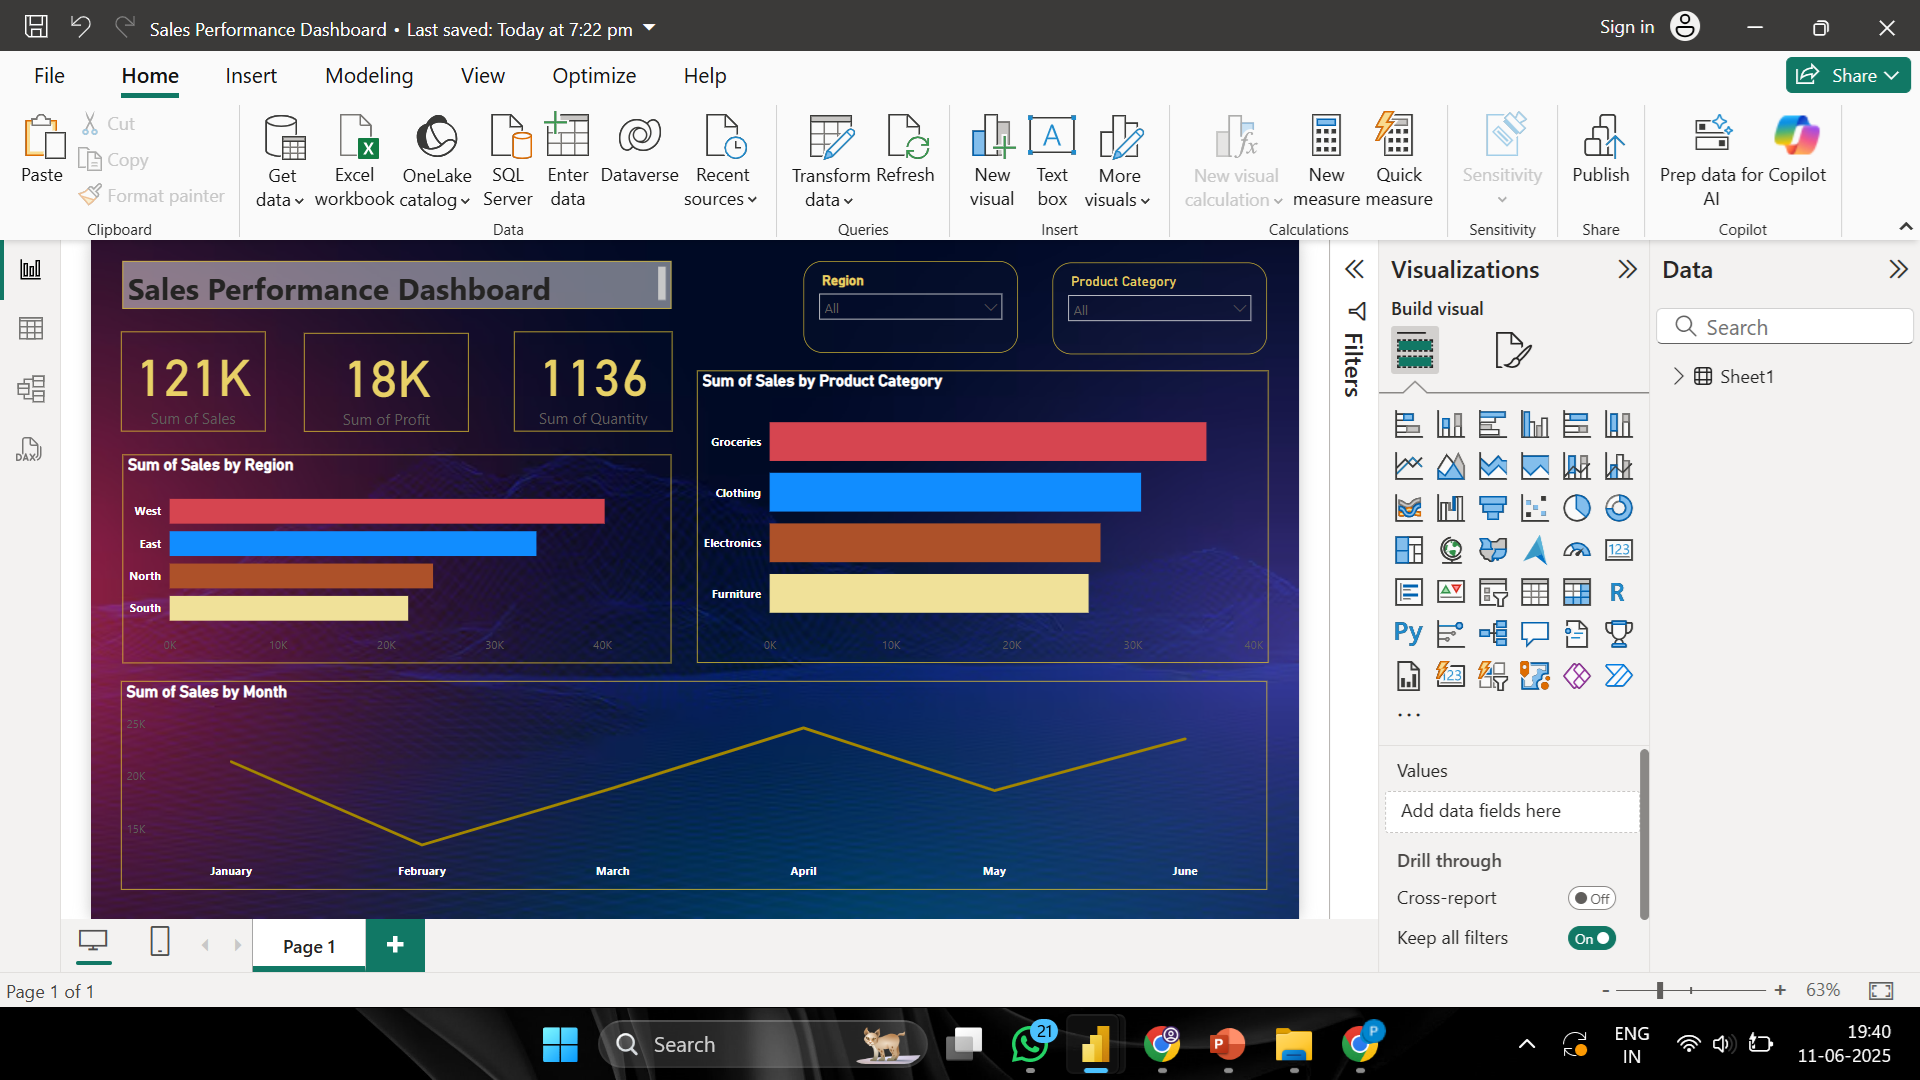

The page's visual inventory and layout, read from the dashboard file:
{"tool":"powerbi","page":{"name":"Page 1","canvas":[1280,720],"ordinal":0},"visuals":[{"type":"barChart","fields":{"Y":["Sheet1.Sales"],"Category":["Sheet1.Region"]},"box":[34,226.8,582.1,221.1],"z":0},{"type":"barChart","fields":{"Y":["Sheet1.Sales"],"Category":["Sheet1.Product Category"]},"box":[642.6,138.4,606,310.2],"z":1000},{"type":"lineChart","fields":{"Y":["Sheet1.Sales"],"Category":["Sheet1.DATE.Variation.Date Hierarchy.Month"]},"box":[31.8,467.6,1215.2,221.1],"z":2000},{"type":"card","fields":{"Values":["Sheet1.Sales"]},"box":[32.1,96.4,153.1,105.8],"z":3000},{"type":"card","fields":{"Values":["Sheet1.Profit"]},"box":[225.9,98.6,175,105],"z":4000},{"type":"card","fields":{"Values":["Sheet1.Quantity"]},"box":[447.9,96.4,168.2,105.8],"z":5000},{"type":"slicer","fields":{"Values":["Sheet1.Region"]},"box":[755.5,22.3,227.5,97],"z":6000},{"type":"slicer","fields":{"Values":["Sheet1.Product Category"]},"box":[1019.6,23.9,227.5,97],"z":7000},{"type":"textbox","box":[33.4,22.3,582.2,50.9],"z":8000}]}

Visuals, with their boxes on the page's 1280x720 design canvas (x1, y1, x2, y2). These are canvas units, not pixel positions in the 1920x1080 screenshot, which may show the page scaled, cropped or inside an application window:
barChart - Sheet1.Sales x Sheet1.Region: region(34, 227, 616, 448)
barChart - Sheet1.Sales x Sheet1.Product Category: region(643, 138, 1249, 449)
lineChart - Sheet1.Sales x Sheet1.DATE.Variation.Date Hierarchy.Month: region(32, 468, 1247, 689)
card - Sheet1.Sales: region(32, 96, 185, 202)
card - Sheet1.Profit: region(226, 99, 401, 204)
card - Sheet1.Quantity: region(448, 96, 616, 202)
slicer - Sheet1.Region: region(756, 22, 983, 119)
slicer - Sheet1.Product Category: region(1020, 24, 1247, 121)
textbox: region(33, 22, 616, 73)
